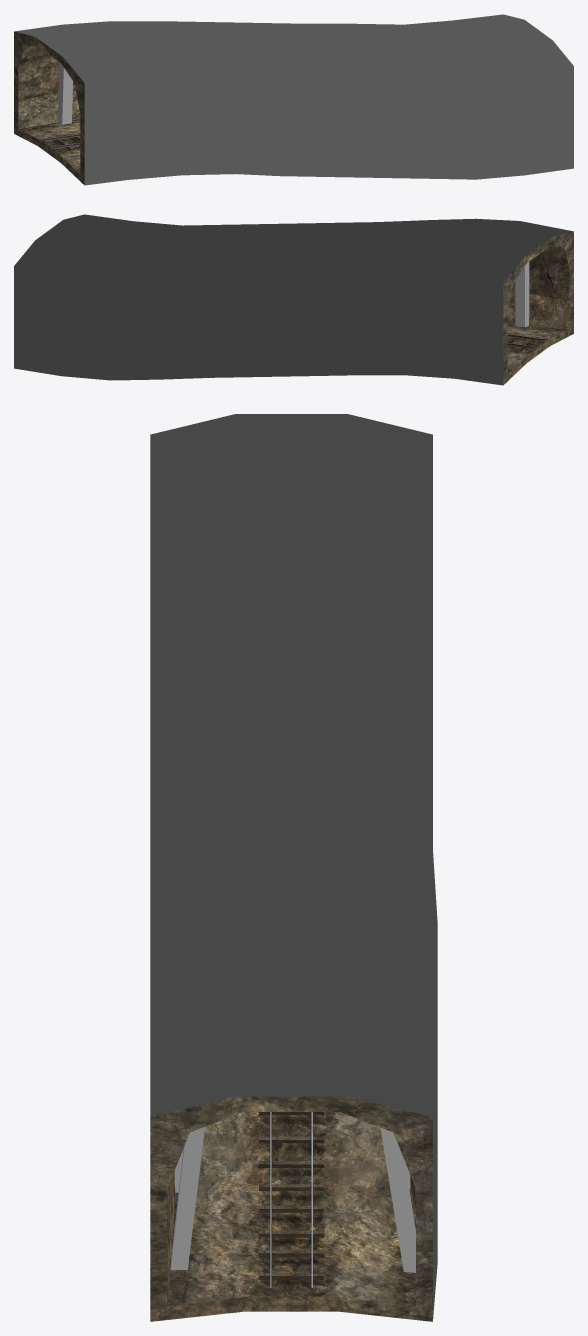
The model's file is svgoldmine04.dae.
3 views of the same model, one above another, from view 1: azimuth 30°, elevation 25°; view 2: azimuth 150°, elevation 25°; view 3: azimuth 270°, elevation 25° (orthographic). The views are drawn at different scales.
Visible parts, largest first — view 1: cube2265_sep105-0, cube2265_sep36-0, cube2265_copy65-0; view 2: cube2265_sep105-0, cube2265_sep36-0, cube2265_copy65-0; view 3: cube2265_sep105-0, cube2265_sep36-0, cube2265_copy65-0.
Part boxes in pixels (<box>): cube2265_sep105-0: <box>14,14,573,185</box>; cube2265_sep36-0: <box>58,62,72,124</box>; cube2265_copy65-0: <box>44,134,80,150</box>; cube2265_sep105-0: <box>14,214,573,385</box>; cube2265_sep36-0: <box>515,262,529,327</box>; cube2265_copy65-0: <box>507,334,543,350</box>; cube2265_sep105-0: <box>150,414,437,1321</box>; cube2265_sep36-0: <box>171,1127,415,1272</box>; cube2265_copy65-0: <box>259,1112,324,1292</box>.
Size of the model in its own units: 6000 by 2520 by 1525.
